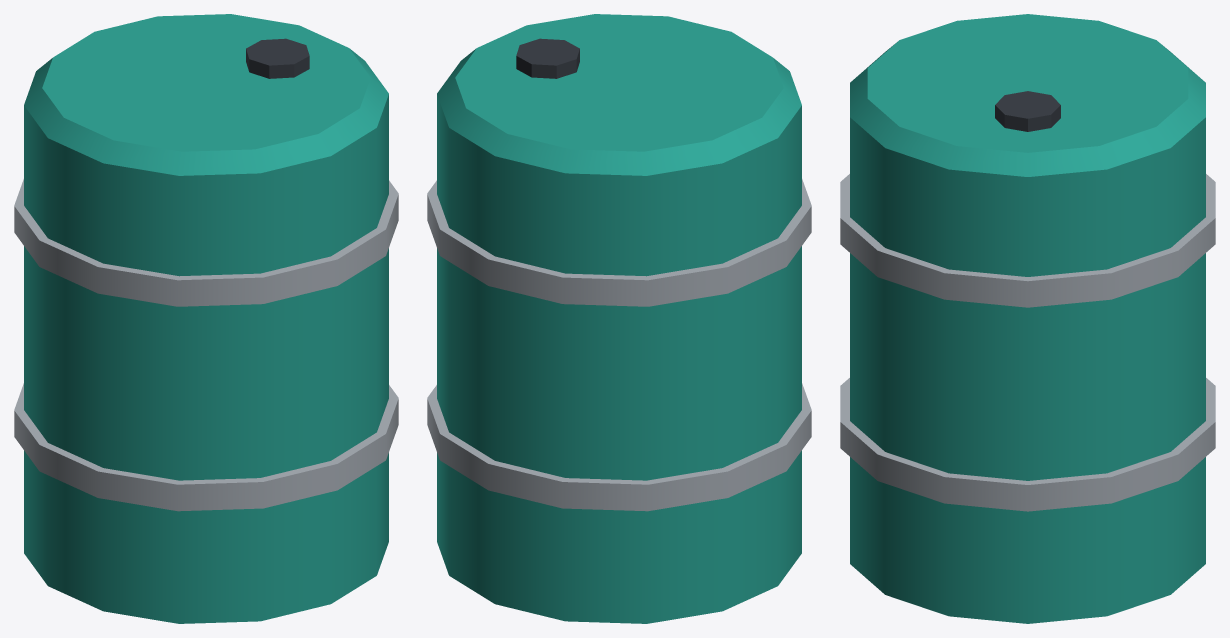
The model's file is barrel.glb.
3 views of the same model, side by side, from view 1: azimuth 30°, elevation 25°; view 2: azimuth 150°, elevation 25°; view 3: azimuth 270°, elevation 25° (orthographic).
Visible parts, largest first — view 1: barrel; view 2: barrel; view 3: barrel.
Part boxes in pixels (x1,y1,x2,y2): barrel: (14,14,398,623); barrel: (427,14,811,623); barrel: (840,14,1215,623).
Size of the model in its own units: 0.316 by 0.432 by 0.3081.
